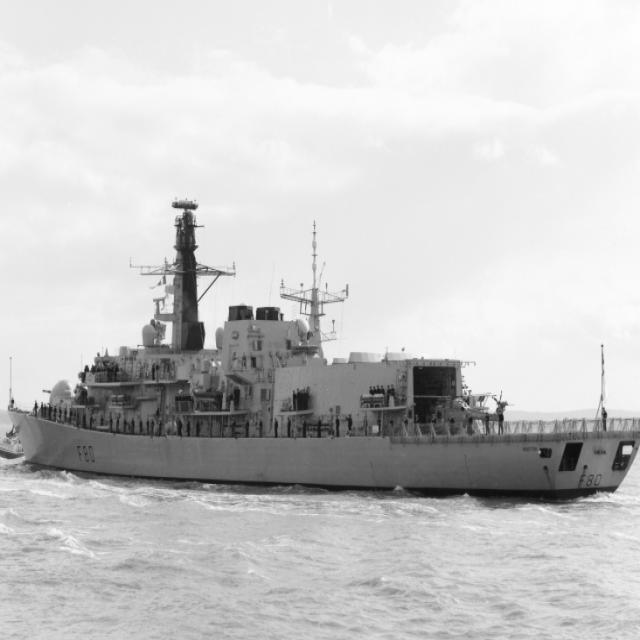Fragata: (6, 191, 640, 490)
